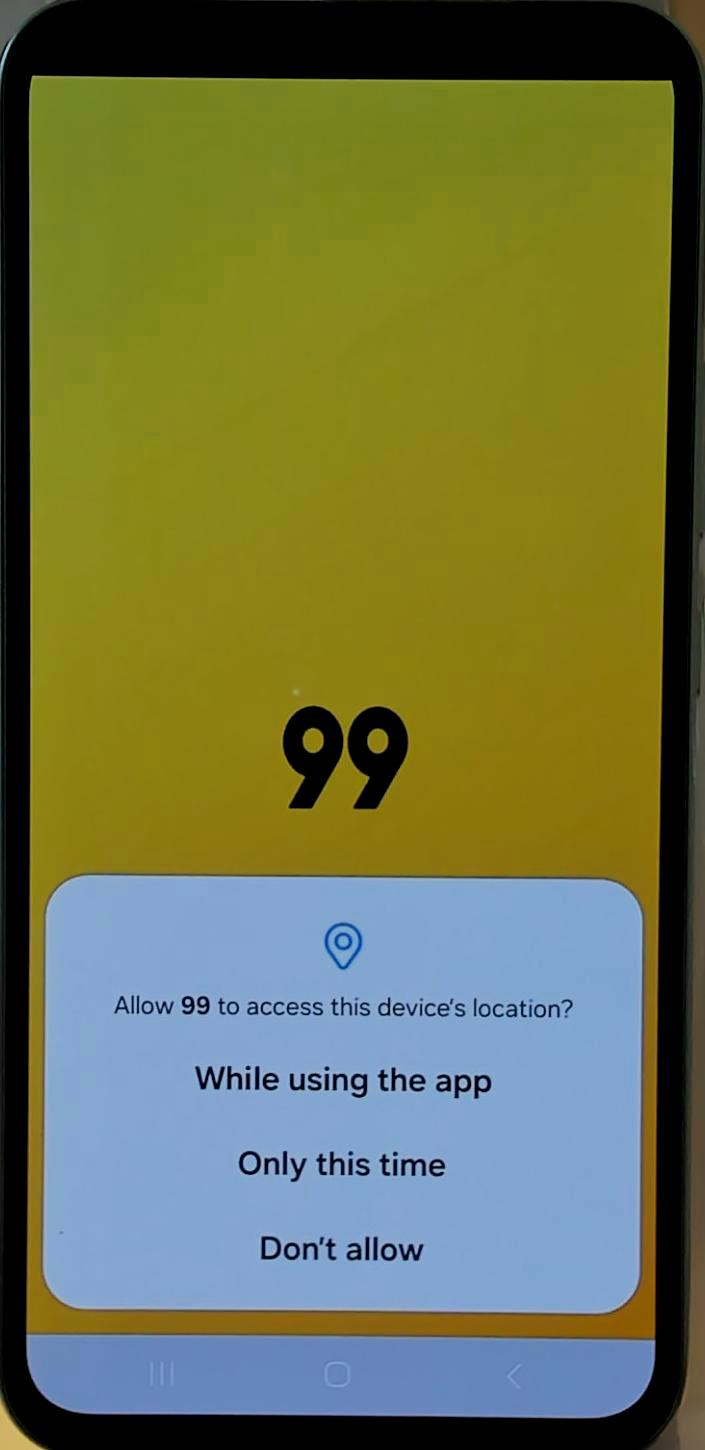CommunBotton: (176, 1046, 508, 1112), (212, 1140, 464, 1194), (246, 1224, 438, 1278), (136, 1344, 192, 1400), (480, 1346, 530, 1400), (312, 1348, 364, 1394)
